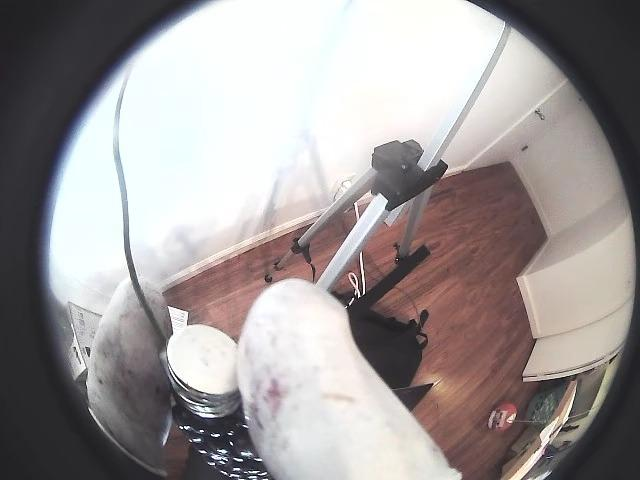berry: (174, 405, 271, 479)
gripper: (239, 279, 460, 479), (86, 277, 171, 475), (141, 279, 170, 334)
lense: (0, 0, 210, 479), (469, 0, 639, 479)
